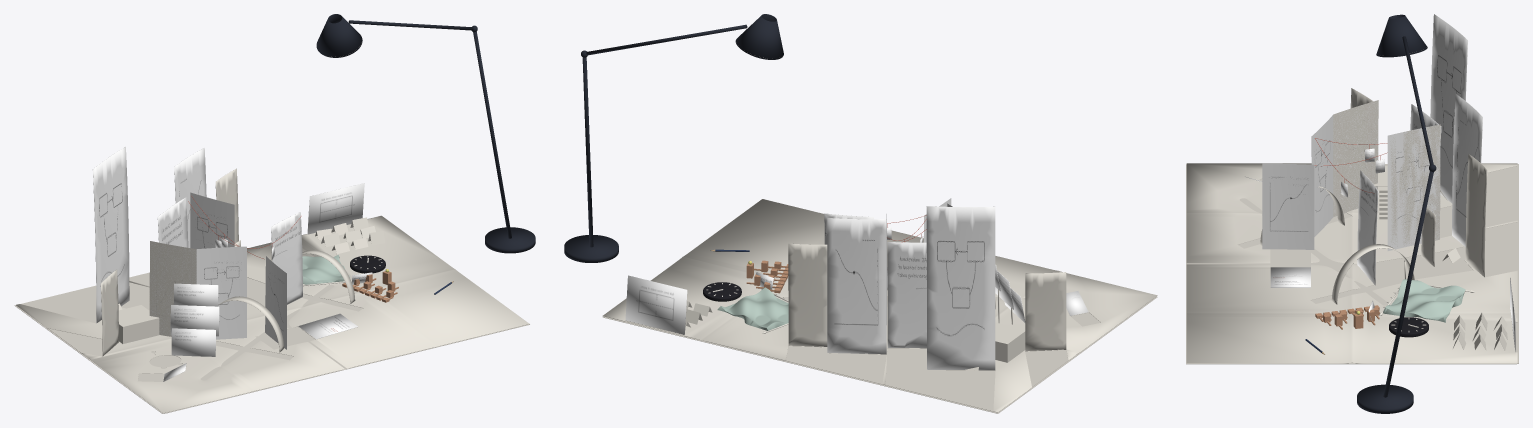
The model's file is world.glb.
The picture shows the model from 3 angles, left to right: view 1: azimuth 30°, elevation 25°; view 2: azimuth 150°, elevation 25°; view 3: azimuth 270°, elevation 25°; orthographic projection. The views are drawn at different scales.
Visible parts, largest first — view 1: Pliego_Sheet, Page_0, Draft_0, Book_q-context_A, Book_q-context_B, Book_q-mcp_A, Pattern, Q_q-ux, Draft_1, Book_q-agents_A, Cone.002, Draft_2 (+18 smaller); view 2: Pliego_Sheet, Draft_0, Draft_1, Page_0, Q_q-arch, Draft_3, Draft_2, Pattern, MathView, Cone.002, Cylinder.004, Page_1 (+3 smaller); view 3: Pliego_Sheet, Page_0, Book_q-agents_A, Draft_0, Book_q-context_B, Book_q-mcp_A, Book_q-mcp_B, Draft_1, Draft_3, MathView, Book_q-context_A, Q_q-ux (+15 smaller).
Boxes of the visible parts, x1=… form: Pliego_Sheet: x1=16, y1=215, x2=528, y2=413; Page_0: x1=22, y1=218, x2=529, y2=413; Draft_0: x1=92, y1=146, x2=129, y2=323; Book_q-context_A: x1=196, y1=246, x2=246, y2=339; Book_q-context_B: x1=149, y1=241, x2=196, y2=336; Book_q-mcp_A: x1=190, y1=192, x2=234, y2=248; Pattern: x1=307, y1=183, x2=364, y2=234; Q_q-ux: x1=271, y1=212, x2=302, y2=304; Draft_1: x1=174, y1=148, x2=206, y2=247; Book_q-agents_A: x1=265, y1=256, x2=286, y2=349; Cone.002: x1=316, y1=14, x2=362, y2=57; Draft_2: x1=100, y1=269, x2=118, y2=356; Pliego_Sheet: x1=603, y1=199, x2=1157, y2=412; Draft_0: x1=926, y1=206, x2=995, y2=370; Draft_1: x1=827, y1=218, x2=886, y2=354; Page_0: x1=602, y1=199, x2=1100, y2=412; Q_q-arch: x1=887, y1=242, x2=926, y2=348; Draft_3: x1=788, y1=243, x2=827, y2=346; Draft_2: x1=1025, y1=272, x2=1066, y2=351; Pattern: x1=625, y1=275, x2=687, y2=334; MathView: x1=717, y1=287, x2=788, y2=330; Cone.002: x1=735, y1=14, x2=783, y2=59; Cylinder.004: x1=564, y1=235, x2=618, y2=262; Page_1: x1=603, y1=296, x2=1157, y2=413; Pliego_Sheet: x1=1186, y1=163, x2=1517, y2=363; Page_0: x1=1186, y1=164, x2=1516, y2=364; Book_q-agents_A: x1=1262, y1=163, x2=1314, y2=249; Draft_0: x1=1430, y1=14, x2=1468, y2=203; Book_q-context_B: x1=1333, y1=100, x2=1378, y2=216; Book_q-mcp_A: x1=1387, y1=126, x2=1440, y2=250; Book_q-mcp_B: x1=1390, y1=124, x2=1440, y2=246; Draft_1: x1=1452, y1=94, x2=1482, y2=246; Draft_3: x1=1465, y1=154, x2=1487, y2=277; MathView: x1=1383, y1=279, x2=1465, y2=322; Book_q-context_A: x1=1311, y1=115, x2=1333, y2=236; Q_q-ux: x1=1357, y1=170, x2=1378, y2=285.
Bounding box in the file's own units: 2.5 × 1.4 × 1.41.
Materials: 41 (23 with a texture image).
